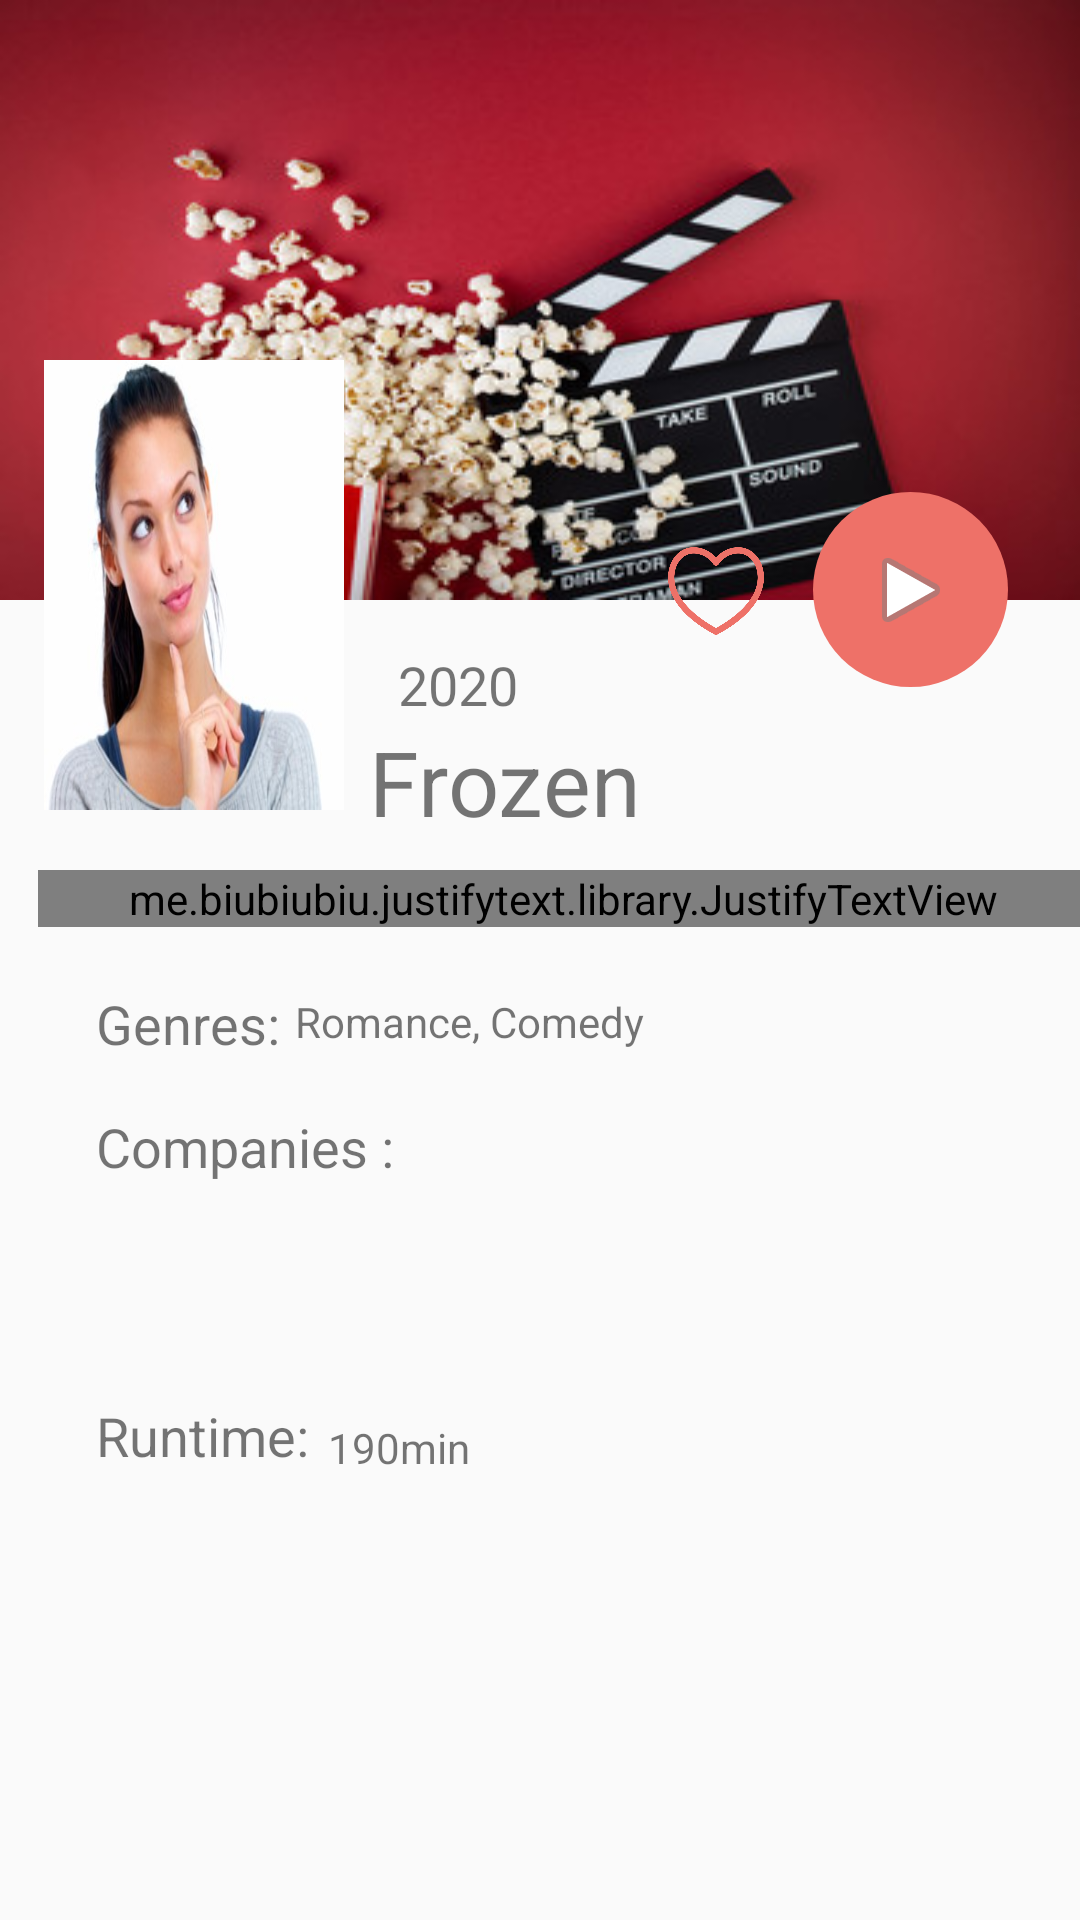

Icons on this 1080 x 1920 Android screen, each with the point to tap as (x=x, y=y):
addfavorite: (x=716, y=591)
play: (x=910, y=589)
